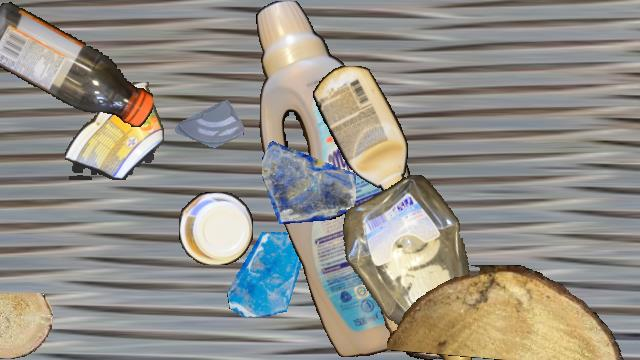glass: (262, 130, 356, 224), (225, 232, 309, 316), (175, 93, 243, 161)
metal: (377, 150, 439, 212)
plastic: (254, 1, 458, 357), (338, 175, 484, 359), (0, 1, 152, 129), (313, 66, 407, 194), (65, 82, 163, 180), (179, 192, 253, 264)
wood: (387, 265, 627, 359), (379, 253, 455, 359), (0, 293, 52, 359)
